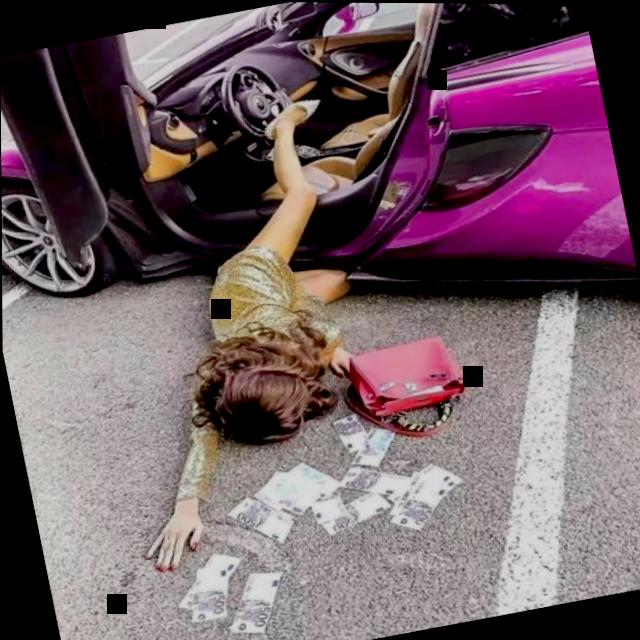Fall-Detected: (45, 60, 459, 595)
